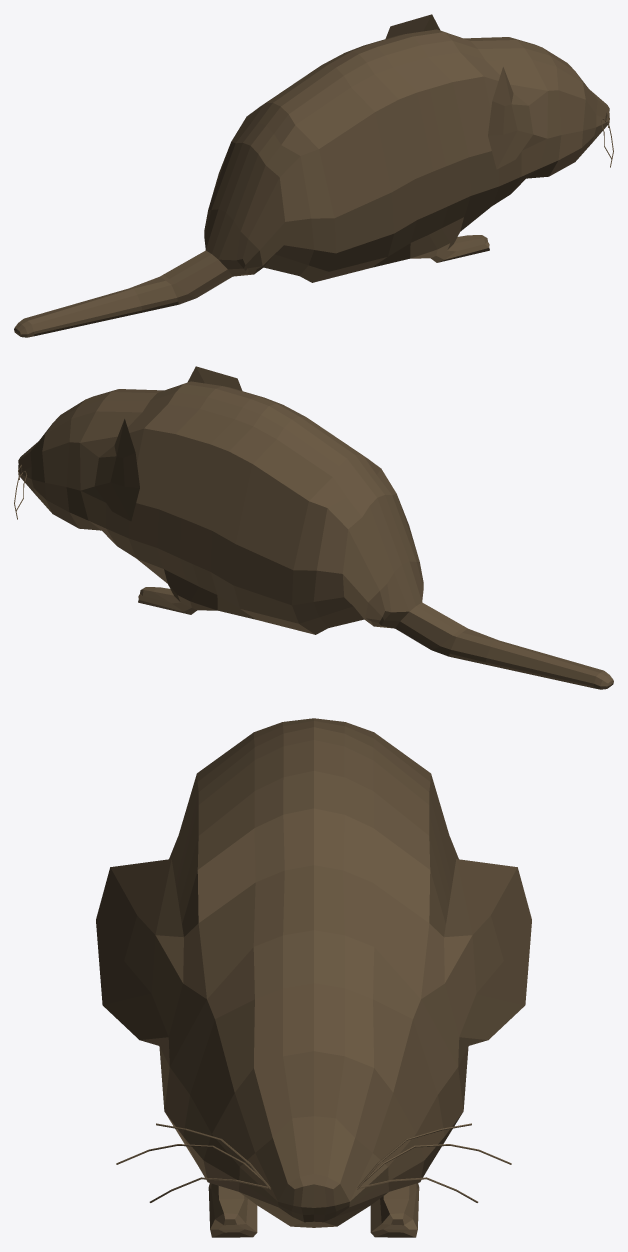
Rendered from mouse.fbx.
The picture shows the model from 3 angles, top to bottom: view 1: azimuth 30°, elevation 25°; view 2: azimuth 150°, elevation 25°; view 3: azimuth 270°, elevation 25°; orthographic projection. The views are drawn at different scales.
Parts seen in each view (by area): view 1: Plane; view 2: Plane; view 3: Plane.
Boxes of the visible parts, bbox=[...] form: Plane: bbox=[14, 14, 613, 337]; Plane: bbox=[14, 366, 613, 689]; Plane: bbox=[96, 718, 531, 1237].
Size of the model in its own units: 267 by 90.69 by 85.42.
